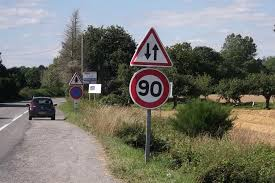Speed_limit_90km: (128, 69, 170, 109)
car: (27, 96, 57, 122)
